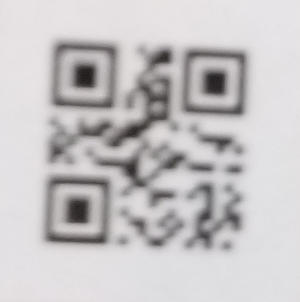QR_CODE: (32, 22, 255, 260)
